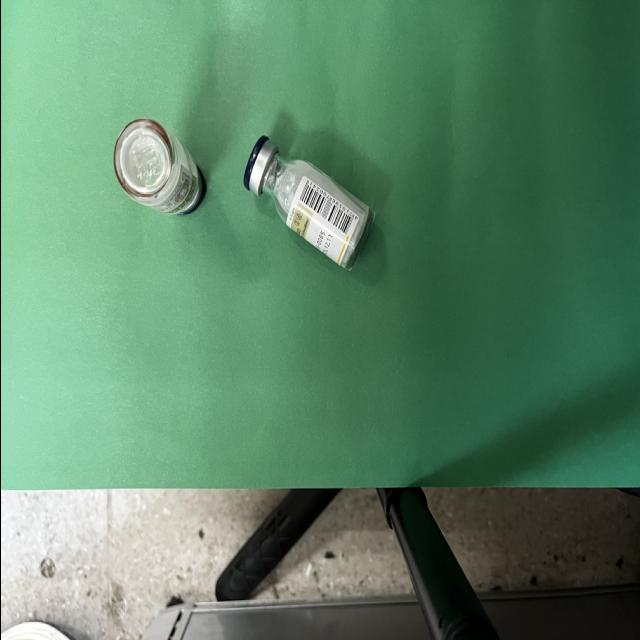Vials: (243, 135, 374, 271), (112, 118, 206, 214)
